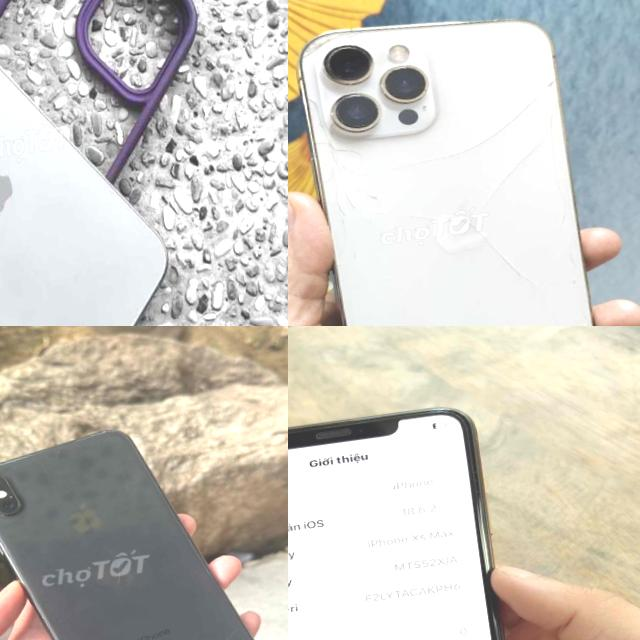gen_12_13: (288, 0, 631, 326)
gen_15: (0, 0, 197, 326)
gen_x_xs: (288, 391, 558, 640), (0, 431, 252, 640)
